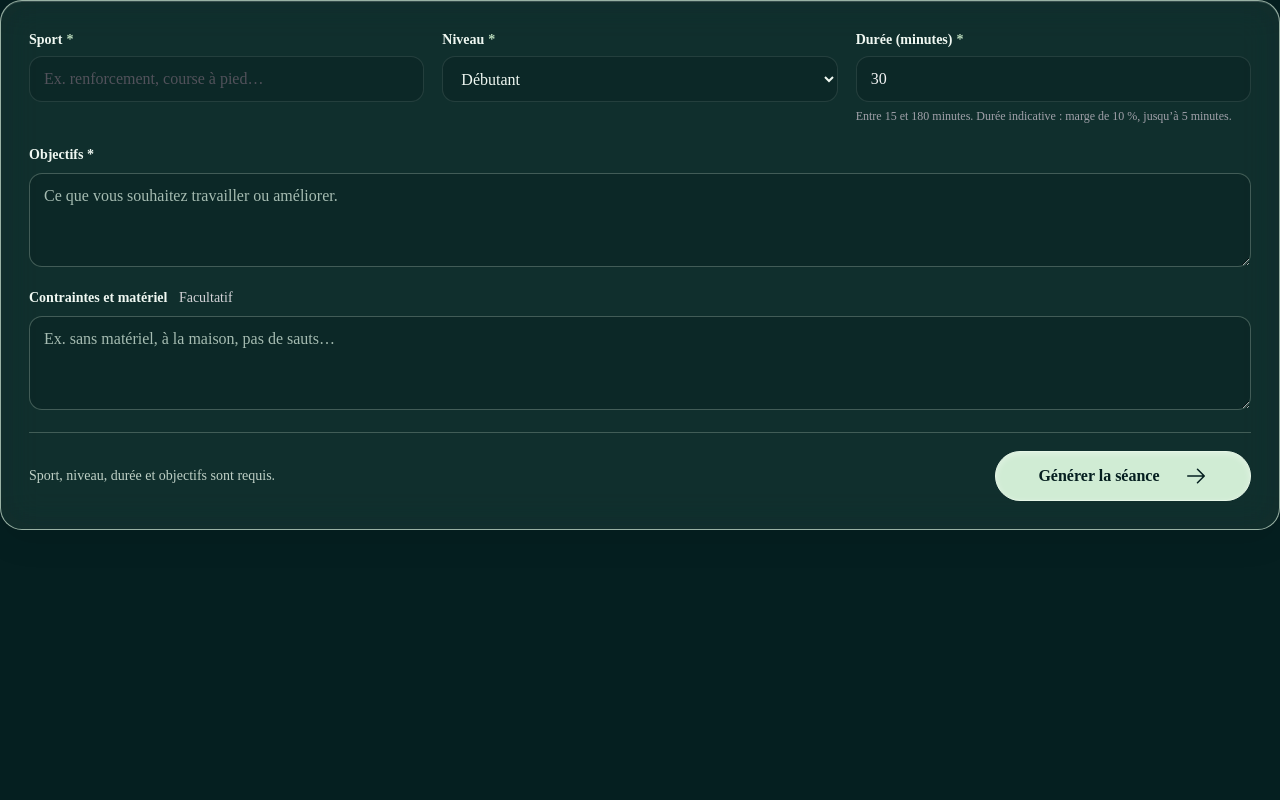
Test: recettes UI metier RNCP Bloc 2 › CR-013 annonce la panne OpenAI et laisse le formulaire complet reutilisable
In the field labelled "Sport*": (227, 79) top-left (29, 56), bottom-right (424, 102), type "course"
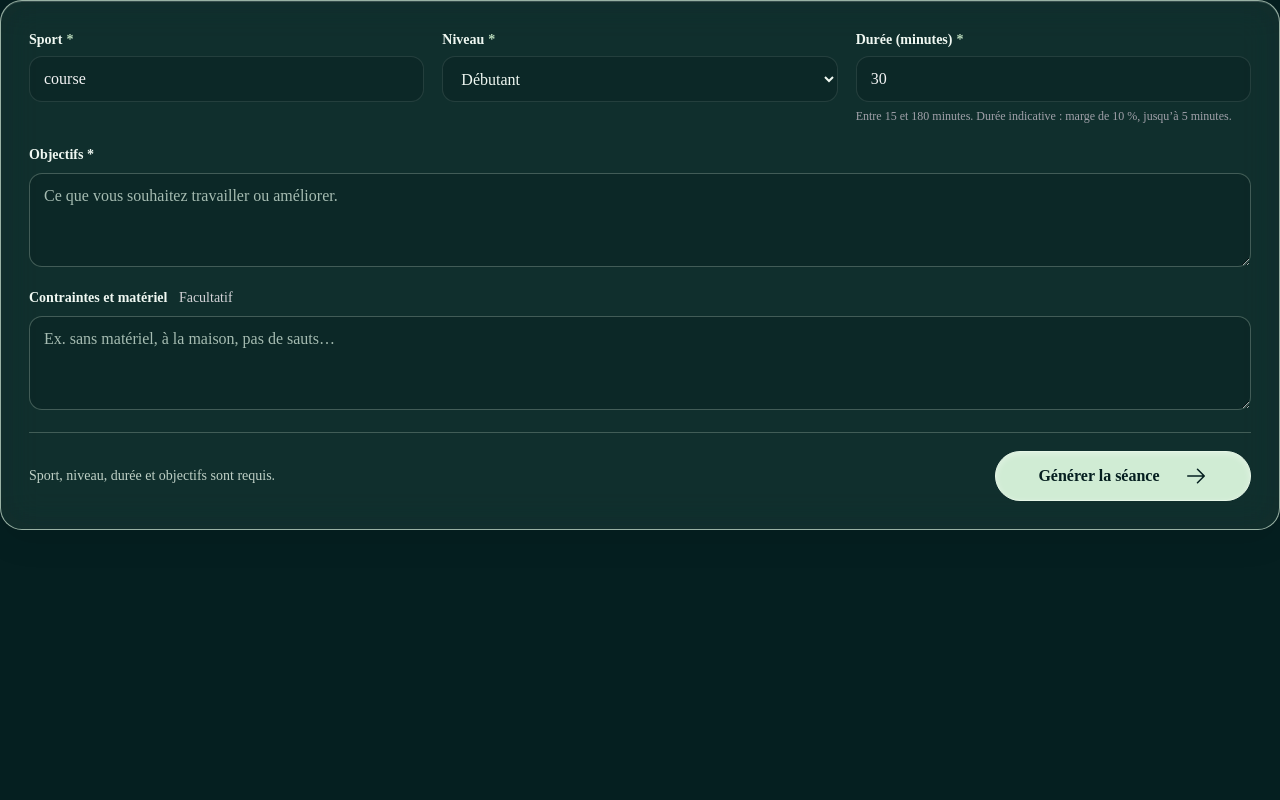
In the text box labelled "Objectifs *": (640, 220) top-left (29, 173), bottom-right (1251, 267), type "Travailler le rythme"
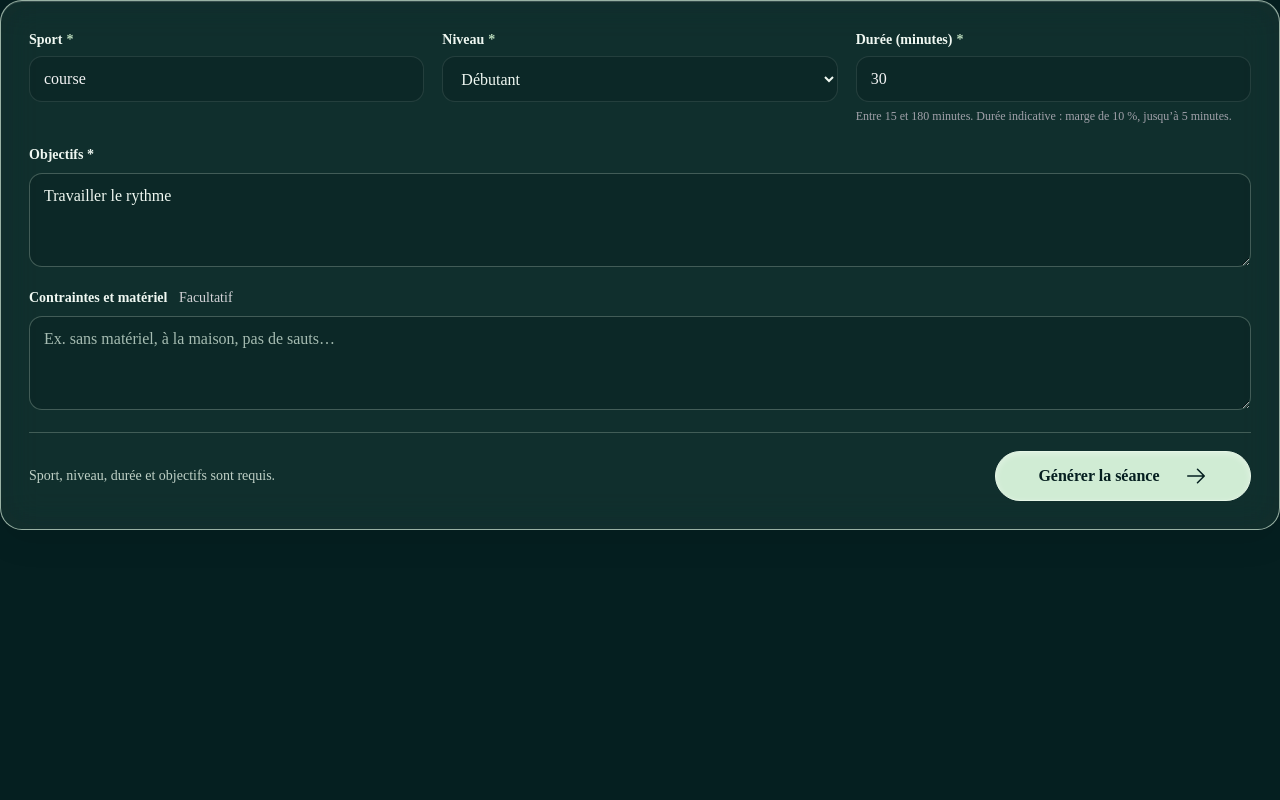
Click the button "Générer la séance": (1123, 476) top-left (995, 451), bottom-right (1251, 501)
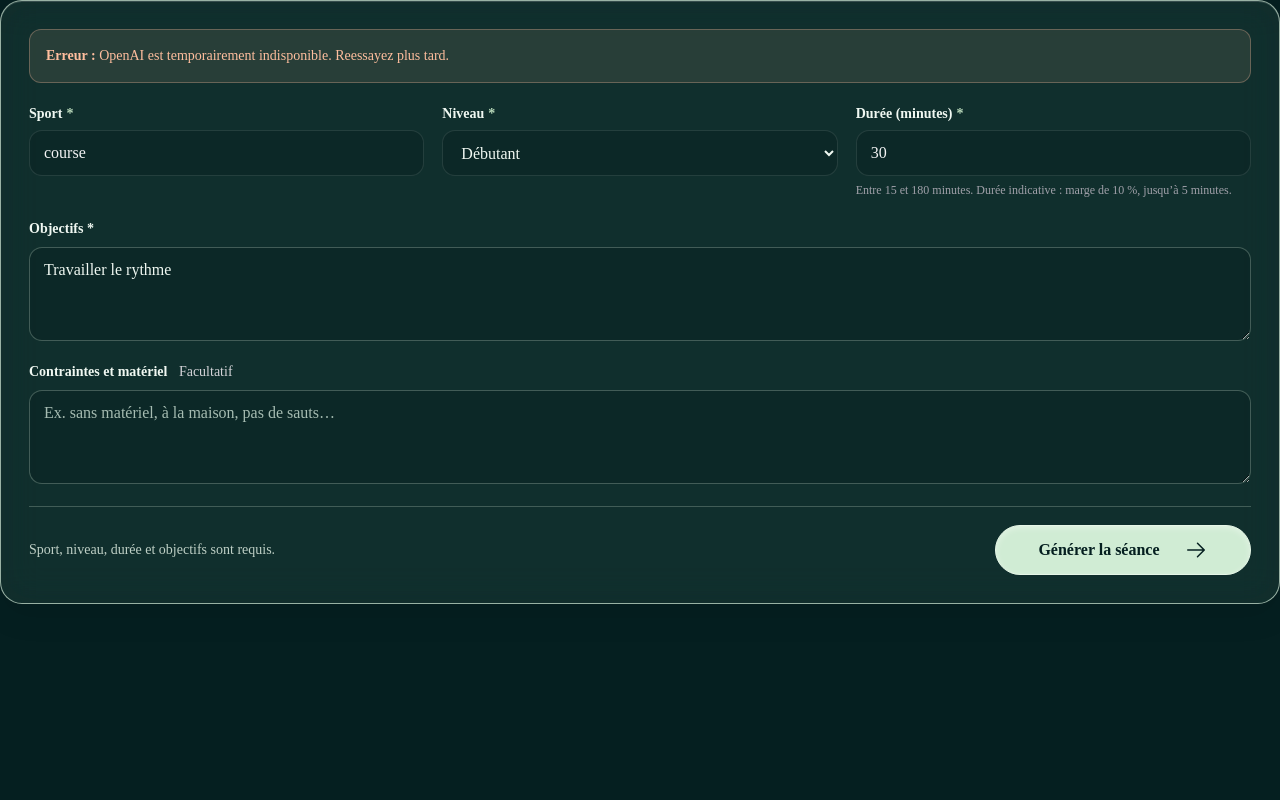
Expected: the button "Générer la séance" is enabled, top-left (995, 525), bottom-right (1251, 575)
Result: the message shows "OpenAI est temporairement indisponible. Reessayez plus tard." at top-left (99, 48), bottom-right (449, 63)
